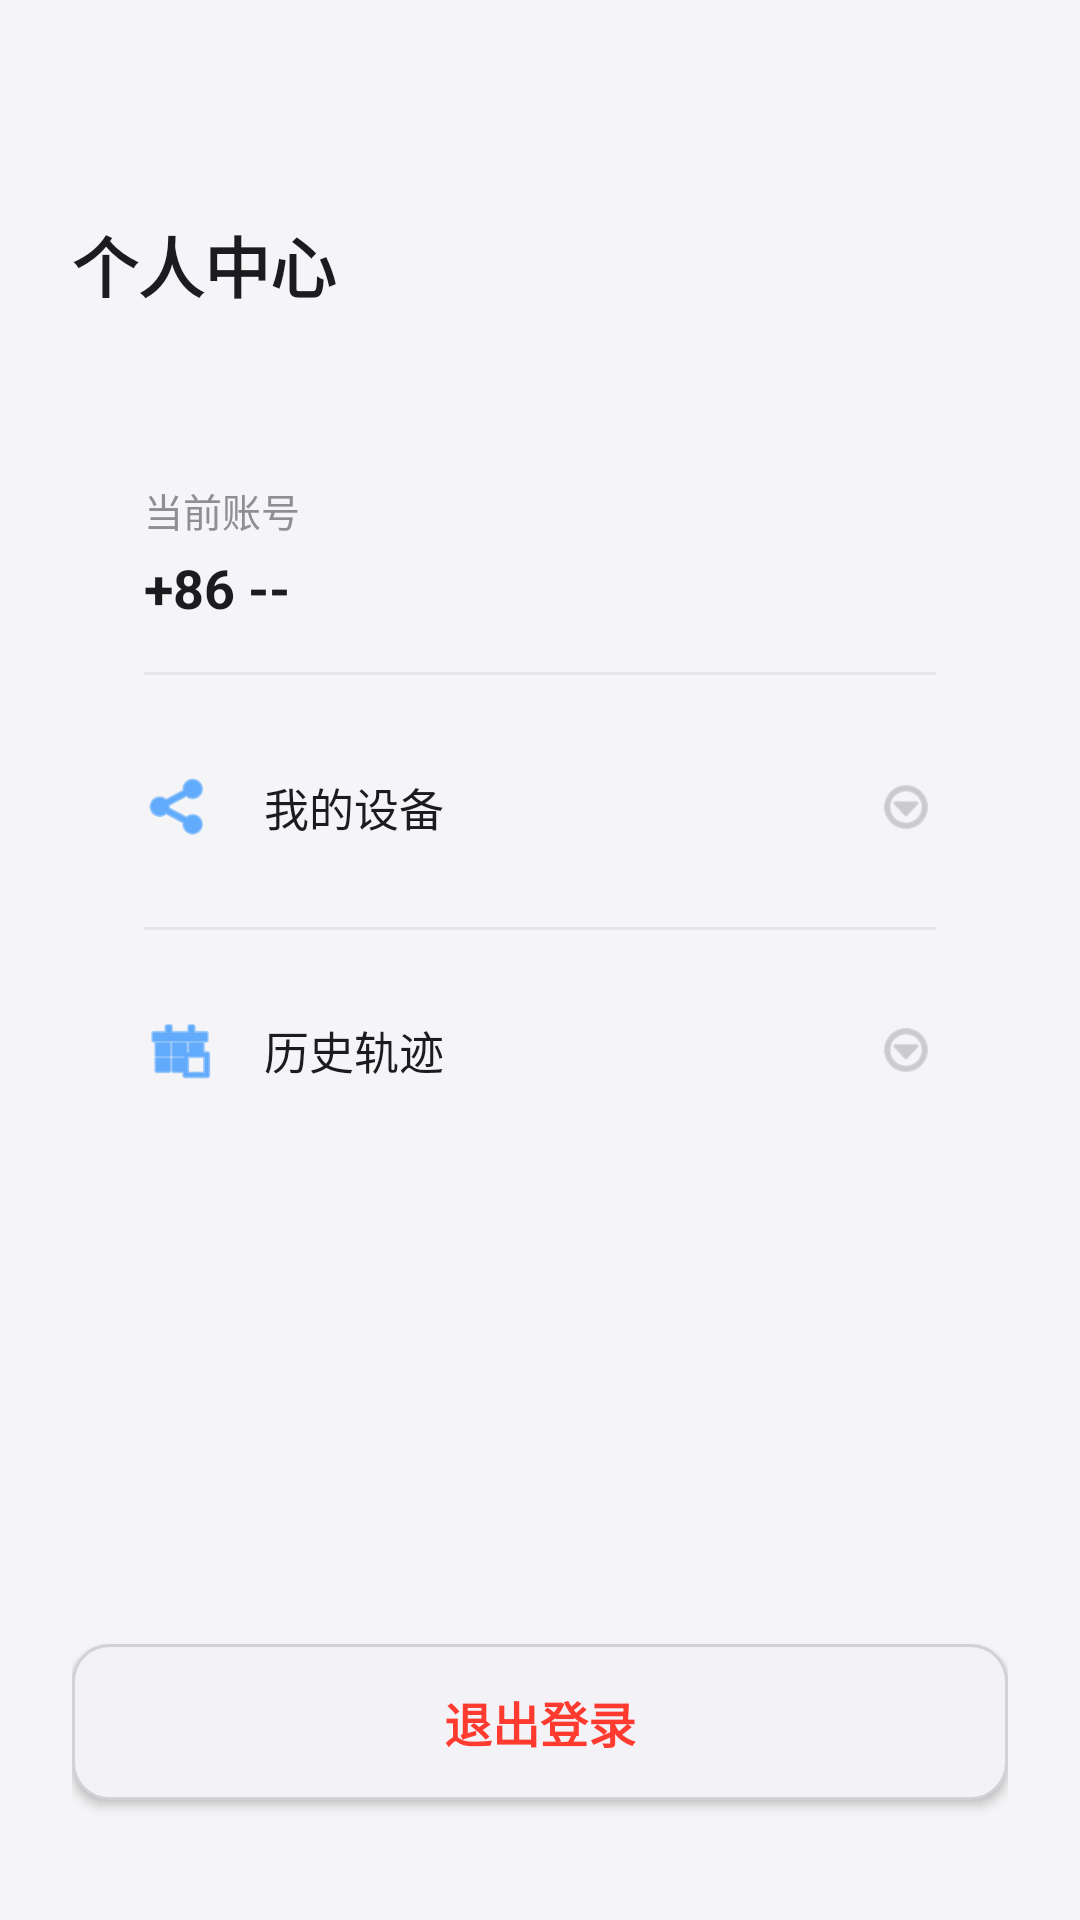

Point at icon controls on the screen. Image size 1080×1920, points as (x=x, y=y).
more: (x=906, y=807), (x=906, y=1050)
share: (x=176, y=806)
today: (x=180, y=1051)
